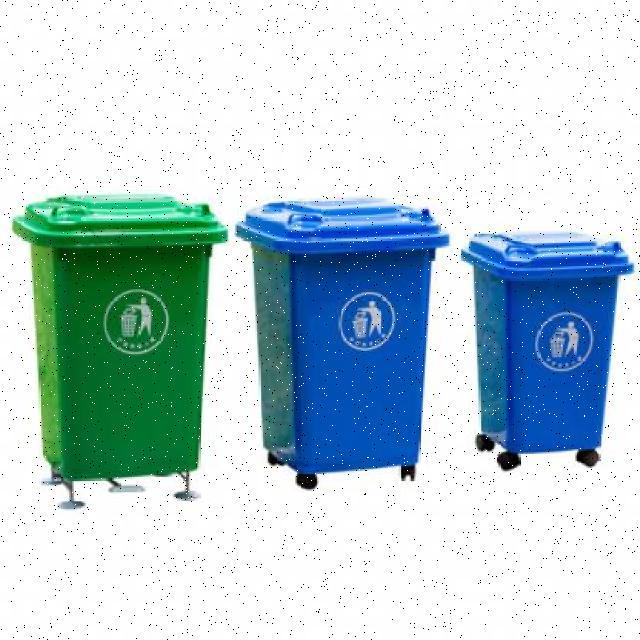garbage container: (2, 187, 233, 530), (234, 189, 457, 509), (454, 220, 640, 497)
